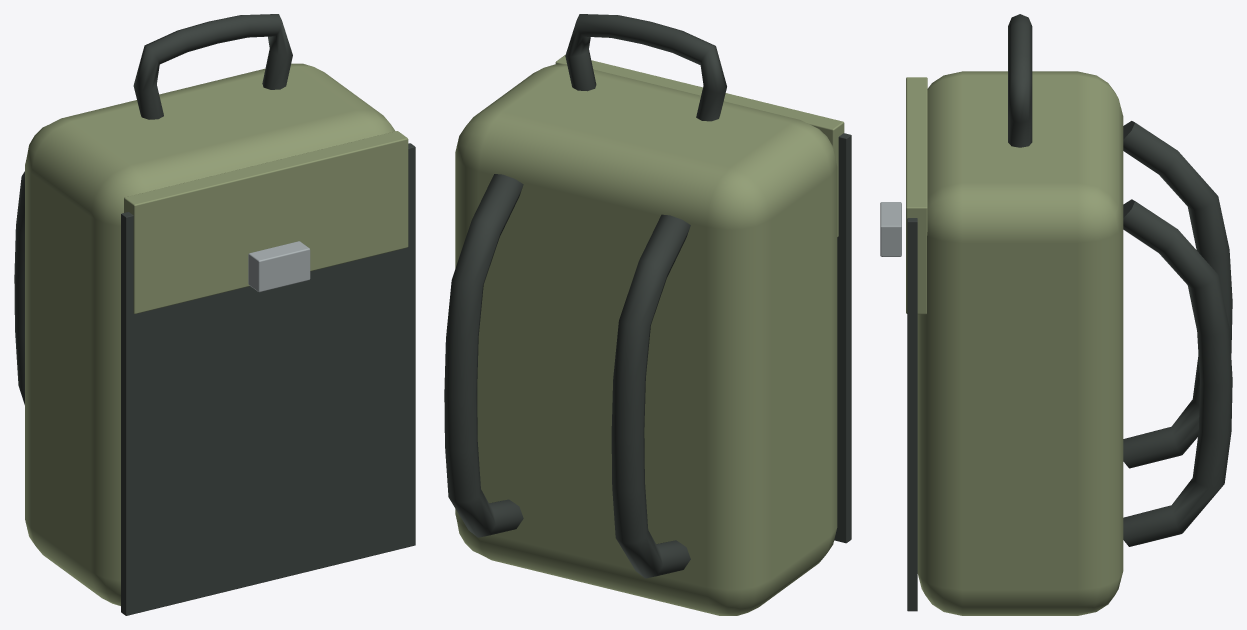
The model's file is backpacks-and-expedition-storage-clamshell-travel-pack-f192123e__21071.glb.
The picture shows the model from 3 angles, left to right: view 1: azimuth 30°, elevation 25°; view 2: azimuth 150°, elevation 25°; view 3: azimuth 270°, elevation 25°; orthographic projection. The views are drawn at different scales.
Visible parts, largest first — view 1: front-panel/dark, clamshell-travel-pack, flap/canvas; view 2: clamshell-travel-pack, front-panel/dark, flap/canvas; view 3: clamshell-travel-pack, front-panel/dark, flap/canvas.
Part boxes in pixels (x1,y1,x2,y2): front-panel/dark: (121,143,415,615); clamshell-travel-pack: (14,14,395,605); flap/canvas: (124,131,408,313); clamshell-travel-pack: (444,14,837,615); front-panel/dark: (834,133,851,543); flap/canvas: (555,55,844,236); clamshell-travel-pack: (880,14,1232,615); front-panel/dark: (907,218,917,611); flap/canvas: (906,77,927,314).
Size of the model in its own units: 0.4 by 0.6684 by 0.4094.
